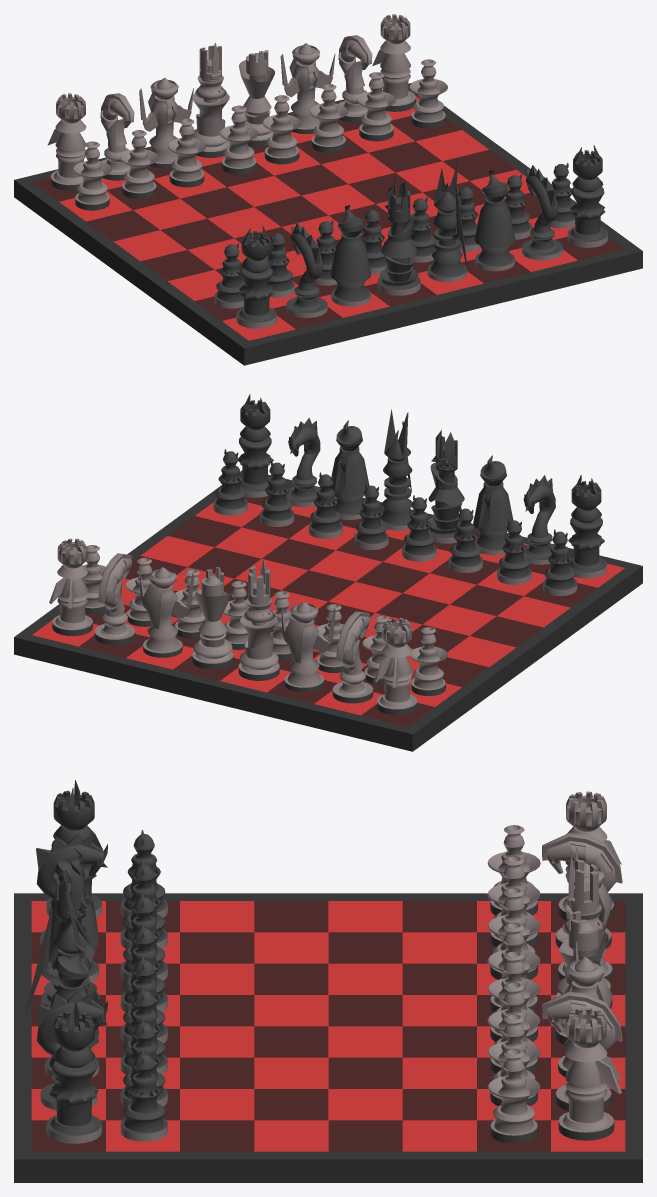
File: chess.glb
3 renders of one model, top to bottom at view 1: azimuth 30°, elevation 25°; view 2: azimuth 150°, elevation 25°; view 3: azimuth 270°, elevation 25°, orthographic. The views are drawn at different scales.
Visible parts, largest first — view 1: pPlane1, pCylinder15, pCylinder1, pCylinder29, pCylinder4, pCylinder14, pCylinder27, pCylinder11, pCylinder19, pCylinder10, pCylinder17, pCylinder2 (+21 smaller); view 2: pPlane1, pCylinder14, pCylinder17, pCylinder2, pCylinder10, pCylinder19, pCylinder29, pCylinder16, pCylinder15, pCylinder4, pCylinder27, pCylinder1 (+21 smaller); view 3: pPlane1, pCylinder10, pCylinder4, pCylinder3, pCylinder6, pCylinder18, pCylinder15, pCylinder13, pCylinder29, pCylinder12, pCylinder14, pCylinder28 (+21 smaller).
Boxes of the visible parts, x1=… form: pPlane1: x1=14, y1=83, x2=642, y2=365; pCylinder15: x1=377, y1=176, x2=420, y2=295; pCylinder1: x1=427, y1=163, x2=467, y2=281; pCylinder29: x1=236, y1=226, x2=276, y2=328; pCylinder4: x1=567, y1=145, x2=607, y2=247; pCylinder14: x1=192, y1=42, x2=230, y2=157; pCylinder27: x1=330, y1=205, x2=371, y2=306; pCylinder11: x1=474, y1=170, x2=515, y2=271; pCylinder19: x1=47, y1=93, x2=86, y2=190; pCylinder10: x1=372, y1=14, x2=415, y2=111; pCylinder17: x1=139, y1=78, x2=193, y2=168; pCylinder2: x1=280, y1=43, x2=335, y2=133; pPlane1: x1=14, y1=470, x2=642, y2=751; pCylinder14: x1=238, y1=559, x2=279, y2=680; pCylinder17: x1=281, y1=601, x2=335, y2=692; pCylinder2: x1=140, y1=567, x2=194, y2=657; pCylinder10: x1=49, y1=538, x2=92, y2=635; pCylinder19: x1=373, y1=617, x2=417, y2=715; pCylinder29: x1=568, y1=475, x2=606, y2=578; pCylinder16: x1=192, y1=567, x2=233, y2=669; pCylinder15: x1=428, y1=430, x2=464, y2=543; pCylinder4: x1=238, y1=394, x2=273, y2=497; pCylinder27: x1=473, y1=455, x2=513, y2=555; pCylinder1: x1=380, y1=409, x2=412, y2=530; pPlane1: x1=14, y1=893, x2=642, y2=1182; pCylinder10: x1=558, y1=1008, x2=621, y2=1140; pCylinder4: x1=46, y1=1001, x2=101, y2=1143; pCylinder3: x1=487, y1=1049, x2=540, y2=1143; pCylinder6: x1=120, y1=1049, x2=167, y2=1141; pCylinder18: x1=542, y1=833, x2=622, y2=948; pCylinder15: x1=41, y1=859, x2=99, y2=1006; pCylinder13: x1=36, y1=990, x2=107, y2=1110; pCylinder29: x1=46, y1=780, x2=101, y2=917; pCylinder12: x1=542, y1=991, x2=622, y2=1110; pCylinder14: x1=555, y1=855, x2=612, y2=1008; pCylinder28: x1=36, y1=833, x2=107, y2=949.
Bounding box in the file's own units: 1.06 × 0.3355 × 1.06.
